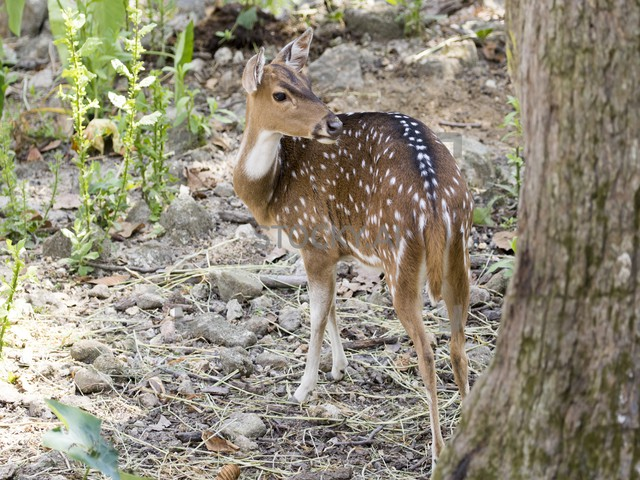deer: (217, 21, 492, 473)
